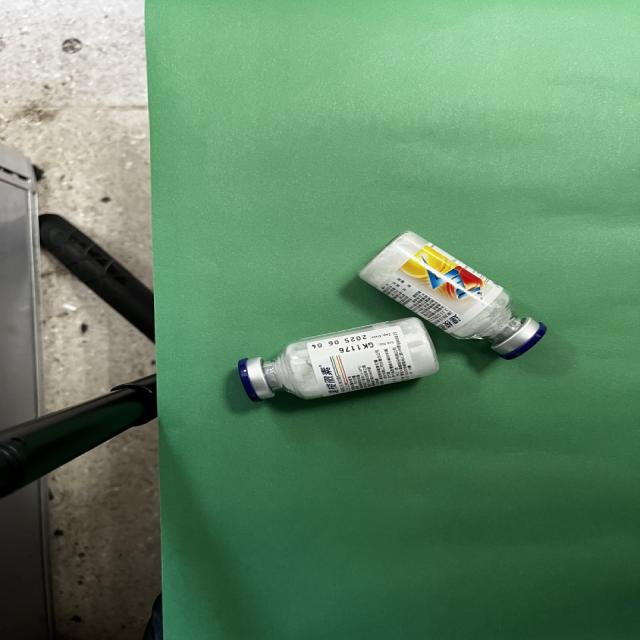Vials: (358, 231, 547, 360), (237, 317, 439, 402)
